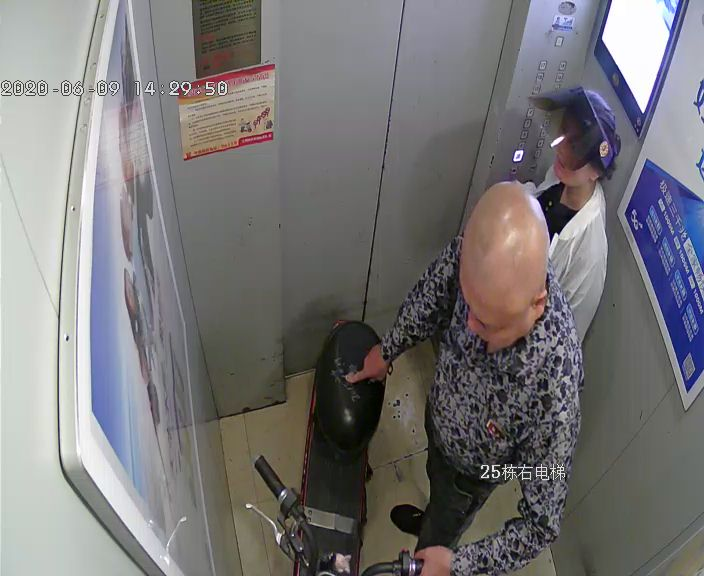Electric-bicycle: (299, 318, 388, 576)
